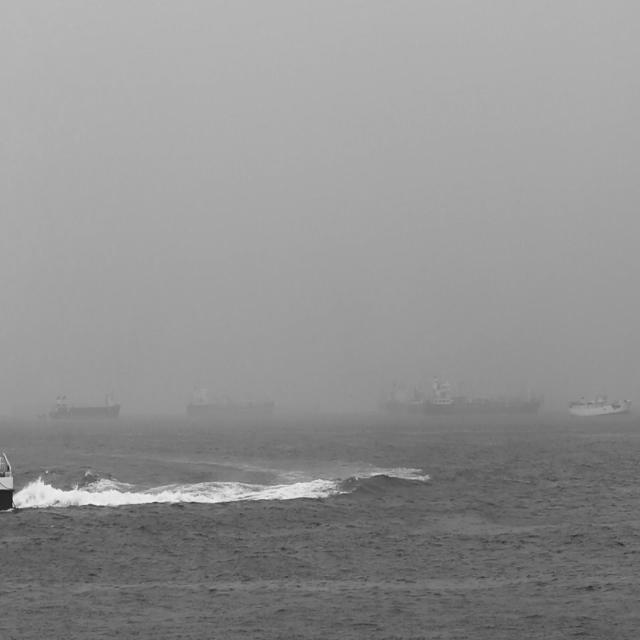ship: (428, 374, 542, 421), (186, 385, 277, 422), (52, 393, 122, 421), (569, 391, 634, 418), (0, 452, 17, 516), (379, 381, 410, 416), (411, 386, 427, 416), (36, 410, 51, 422)
